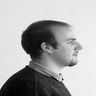ear: (38, 39, 56, 55)
